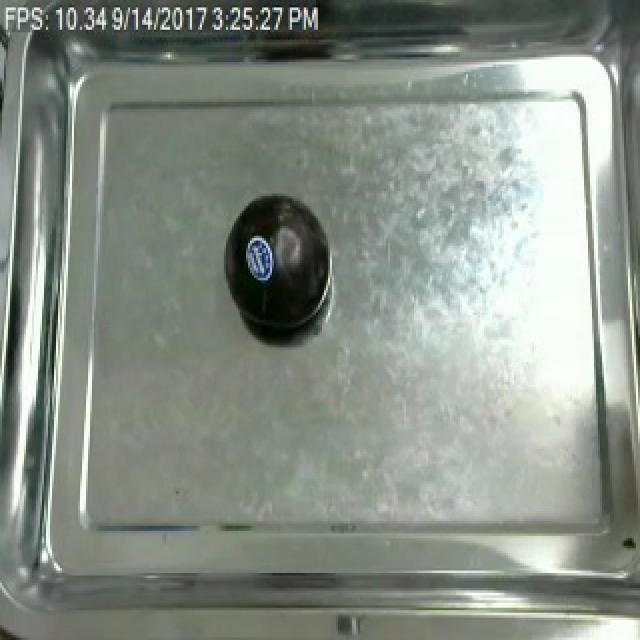Fruit: (216, 184, 334, 342)
